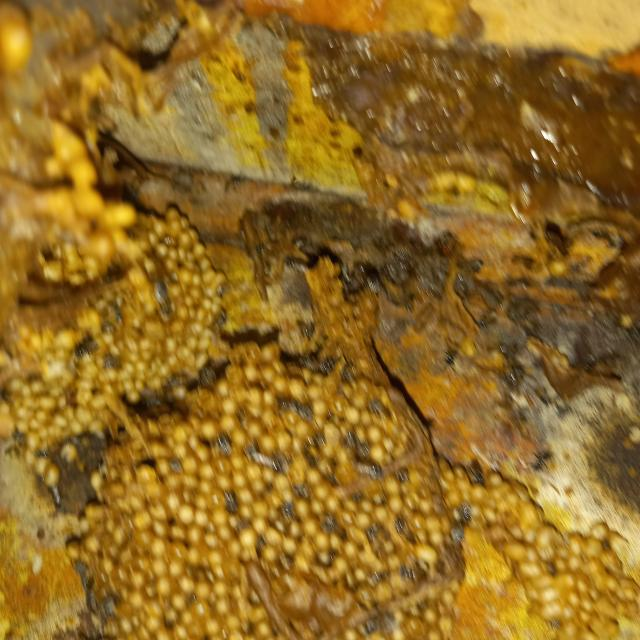honeybee: (462, 447, 484, 484), (220, 491, 246, 522), (525, 386, 561, 406), (325, 346, 348, 376), (315, 506, 340, 532), (393, 462, 418, 486), (382, 517, 410, 538), (299, 432, 327, 453), (348, 286, 382, 302), (202, 429, 226, 449), (183, 577, 214, 592), (444, 533, 465, 553), (343, 421, 364, 441), (358, 112, 380, 130), (501, 361, 524, 377), (278, 506, 294, 526), (270, 397, 297, 408), (380, 257, 416, 265), (239, 442, 257, 457), (442, 282, 475, 290), (361, 526, 379, 540), (493, 346, 512, 358)
